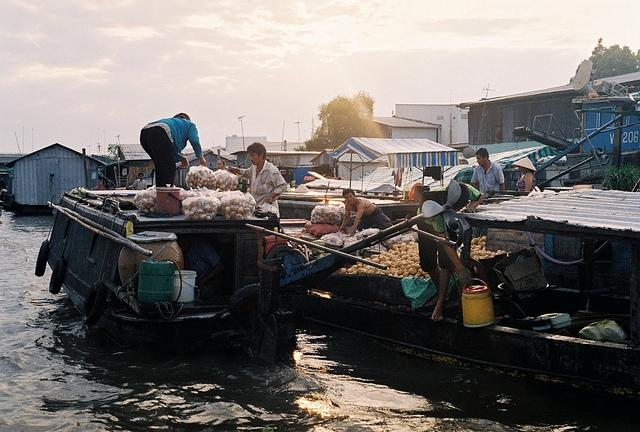potato: (236, 206, 244, 213), (190, 198, 197, 206), (148, 197, 154, 206), (232, 198, 238, 206), (149, 194, 157, 200), (196, 208, 204, 214), (379, 256, 386, 262), (340, 268, 347, 274), (478, 238, 486, 243), (200, 214, 206, 220), (404, 254, 410, 260), (250, 200, 256, 206), (201, 176, 207, 182), (396, 261, 402, 267), (136, 200, 142, 206), (219, 184, 226, 189), (394, 259, 402, 263), (362, 269, 368, 274), (404, 272, 409, 278), (137, 194, 143, 199), (245, 194, 252, 198), (240, 212, 246, 216), (244, 208, 250, 212), (224, 174, 228, 180), (194, 173, 198, 179), (397, 253, 402, 257), (204, 200, 209, 204), (496, 252, 502, 255), (406, 246, 412, 249), (326, 212, 330, 216), (212, 173, 216, 177), (204, 170, 208, 174), (372, 230, 379, 232), (340, 205, 344, 208), (480, 257, 484, 259), (330, 210, 334, 212), (338, 242, 342, 244), (353, 241, 356, 243)
